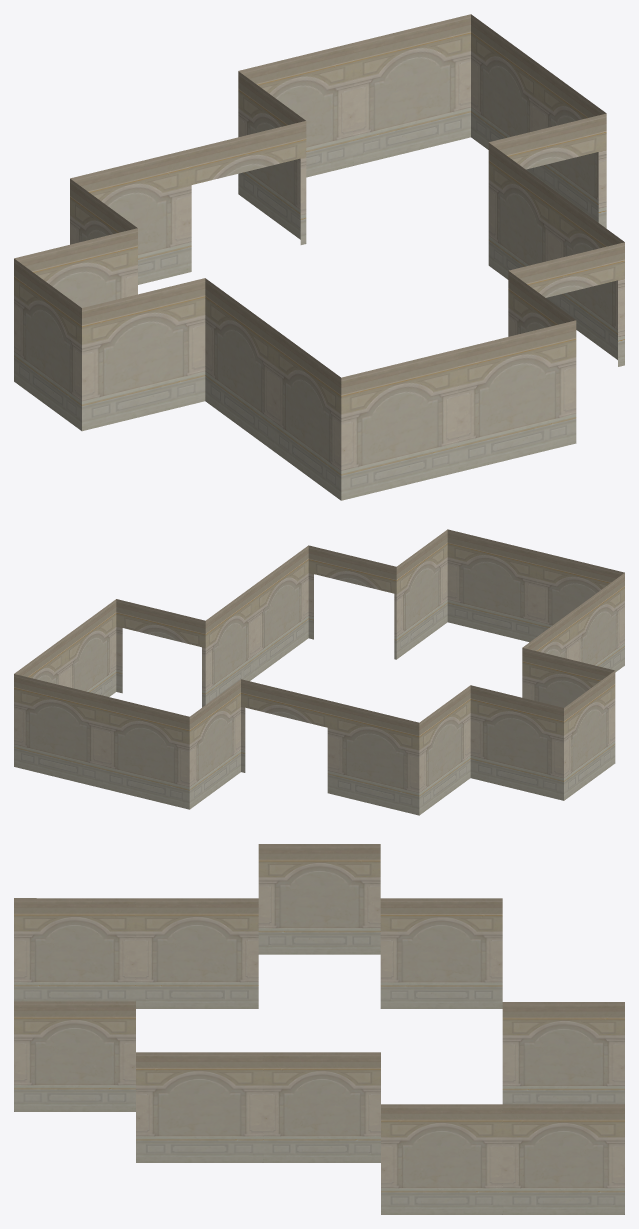
File: Homeworld_Interior_Fd_Room_K_Filling_01_Vo.fbx
3 renders of one model, top to bottom at view 1: azimuth 30°, elevation 25°; view 2: azimuth 150°, elevation 25°; view 3: azimuth 270°, elevation 25°, orthographic. The views are drawn at different scales.
Visible parts, largest first — view 1: Homeworld_Interior_Fd_Room_K_Filling_01_Vo; view 2: Homeworld_Interior_Fd_Room_K_Filling_01_Vo; view 3: Homeworld_Interior_Fd_Room_K_Filling_01_Vo.
Boxes of the visible parts, box(x1,y1,x2,y2) form: Homeworld_Interior_Fd_Room_K_Filling_01_Vo: box(14, 14, 624, 500); Homeworld_Interior_Fd_Room_K_Filling_01_Vo: box(14, 529, 624, 815); Homeworld_Interior_Fd_Room_K_Filling_01_Vo: box(14, 844, 624, 1214).
Size of the model in its own units: 25.09 by 4.98 by 24.91.
